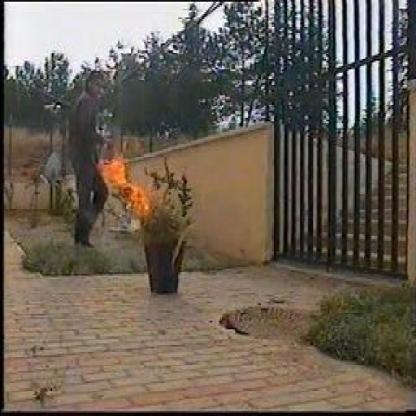foggia-v2-map80-epoch100 - v1 4323: (100, 157, 156, 224)
